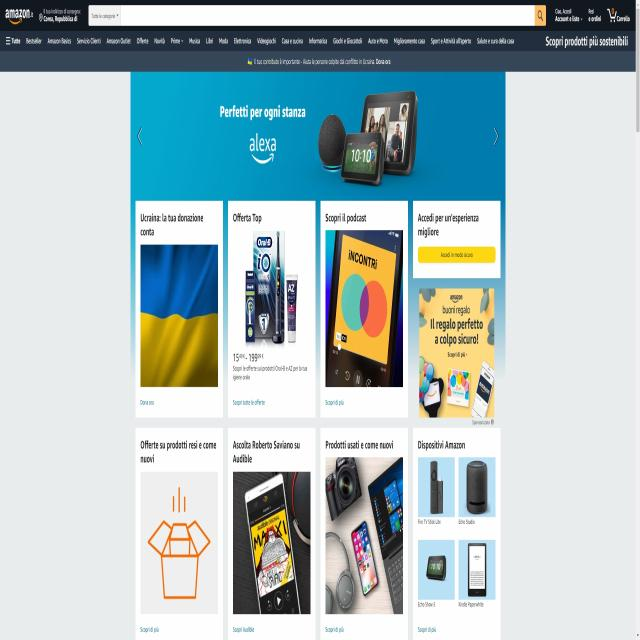menu-bar: (552, 2, 632, 27)
search: (86, 2, 547, 27)
tab-bar: (4, 31, 516, 48)
